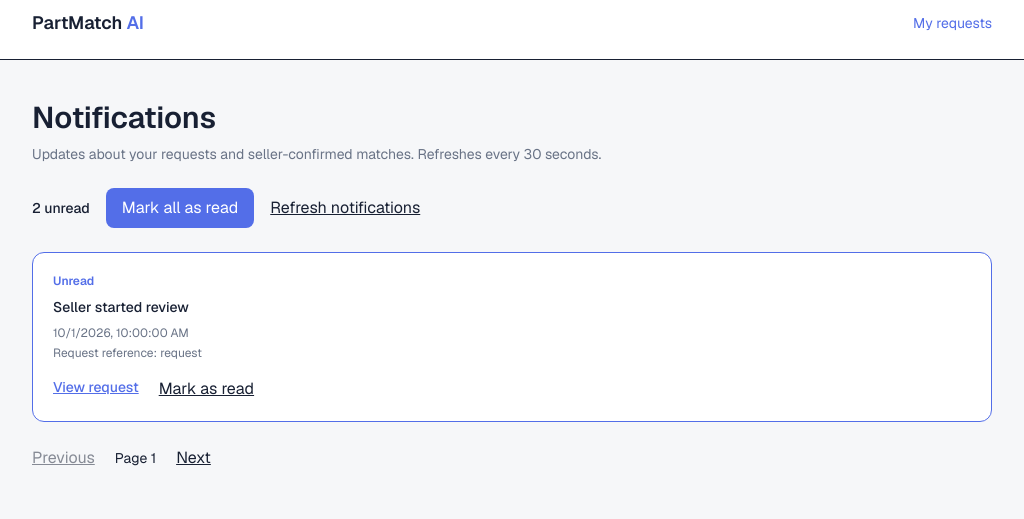
Test: supports mark all as read and older notification pages
Expected: the text "2 unread" is shown, [32,198,90,218]
Click the button "Mark all as read".
click(180, 208)  # box [106,188,254,228]
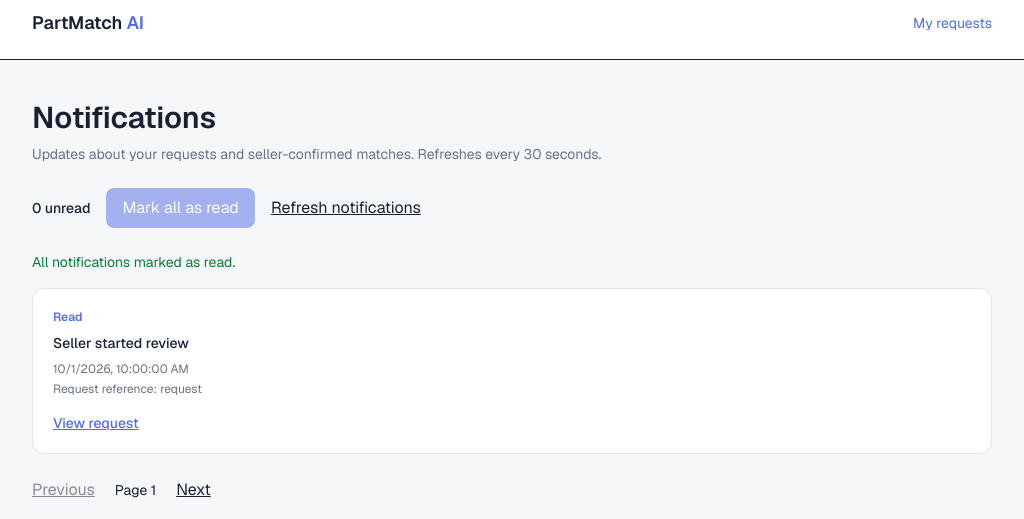
Now the text "0 unread" is shown, box [32,198,90,218]
Click the button "Next".
click(193, 490)  # box [176,478,211,502]
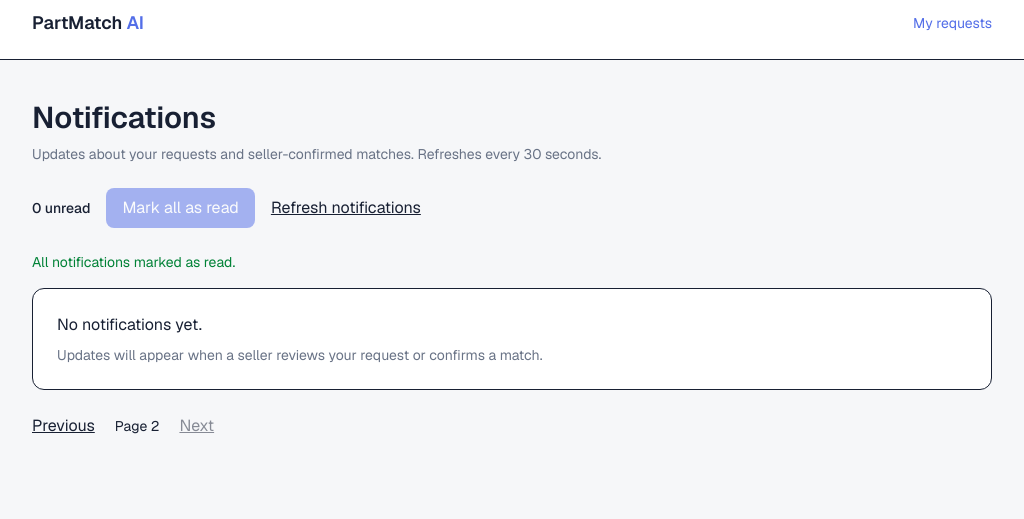
Now the text "Page 2" is shown, box [115,416,159,436]
